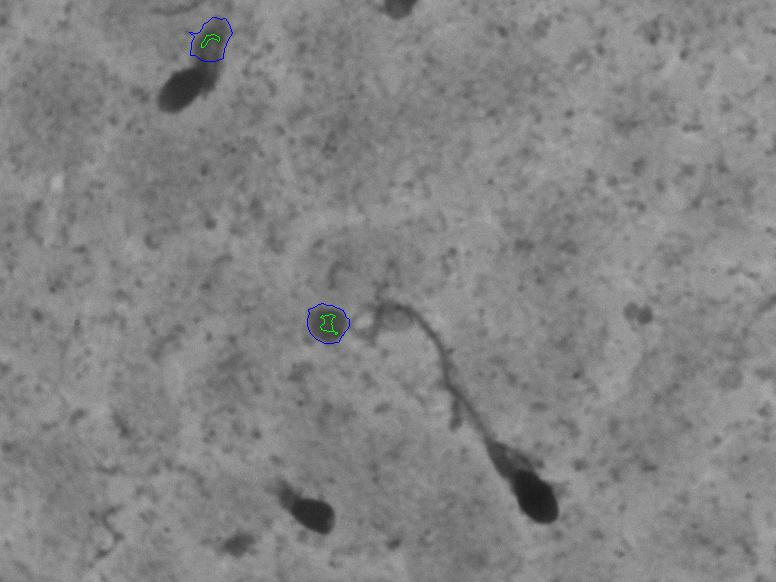Abnormal: (379, 235, 582, 528), (246, 425, 355, 567)
